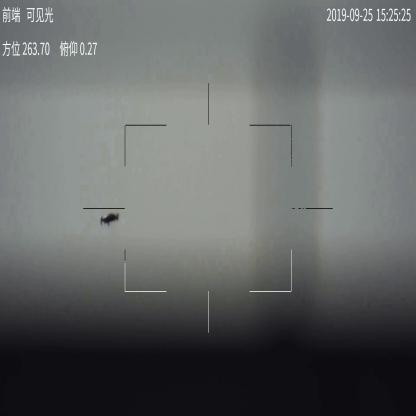uav: (94, 209, 116, 227)
